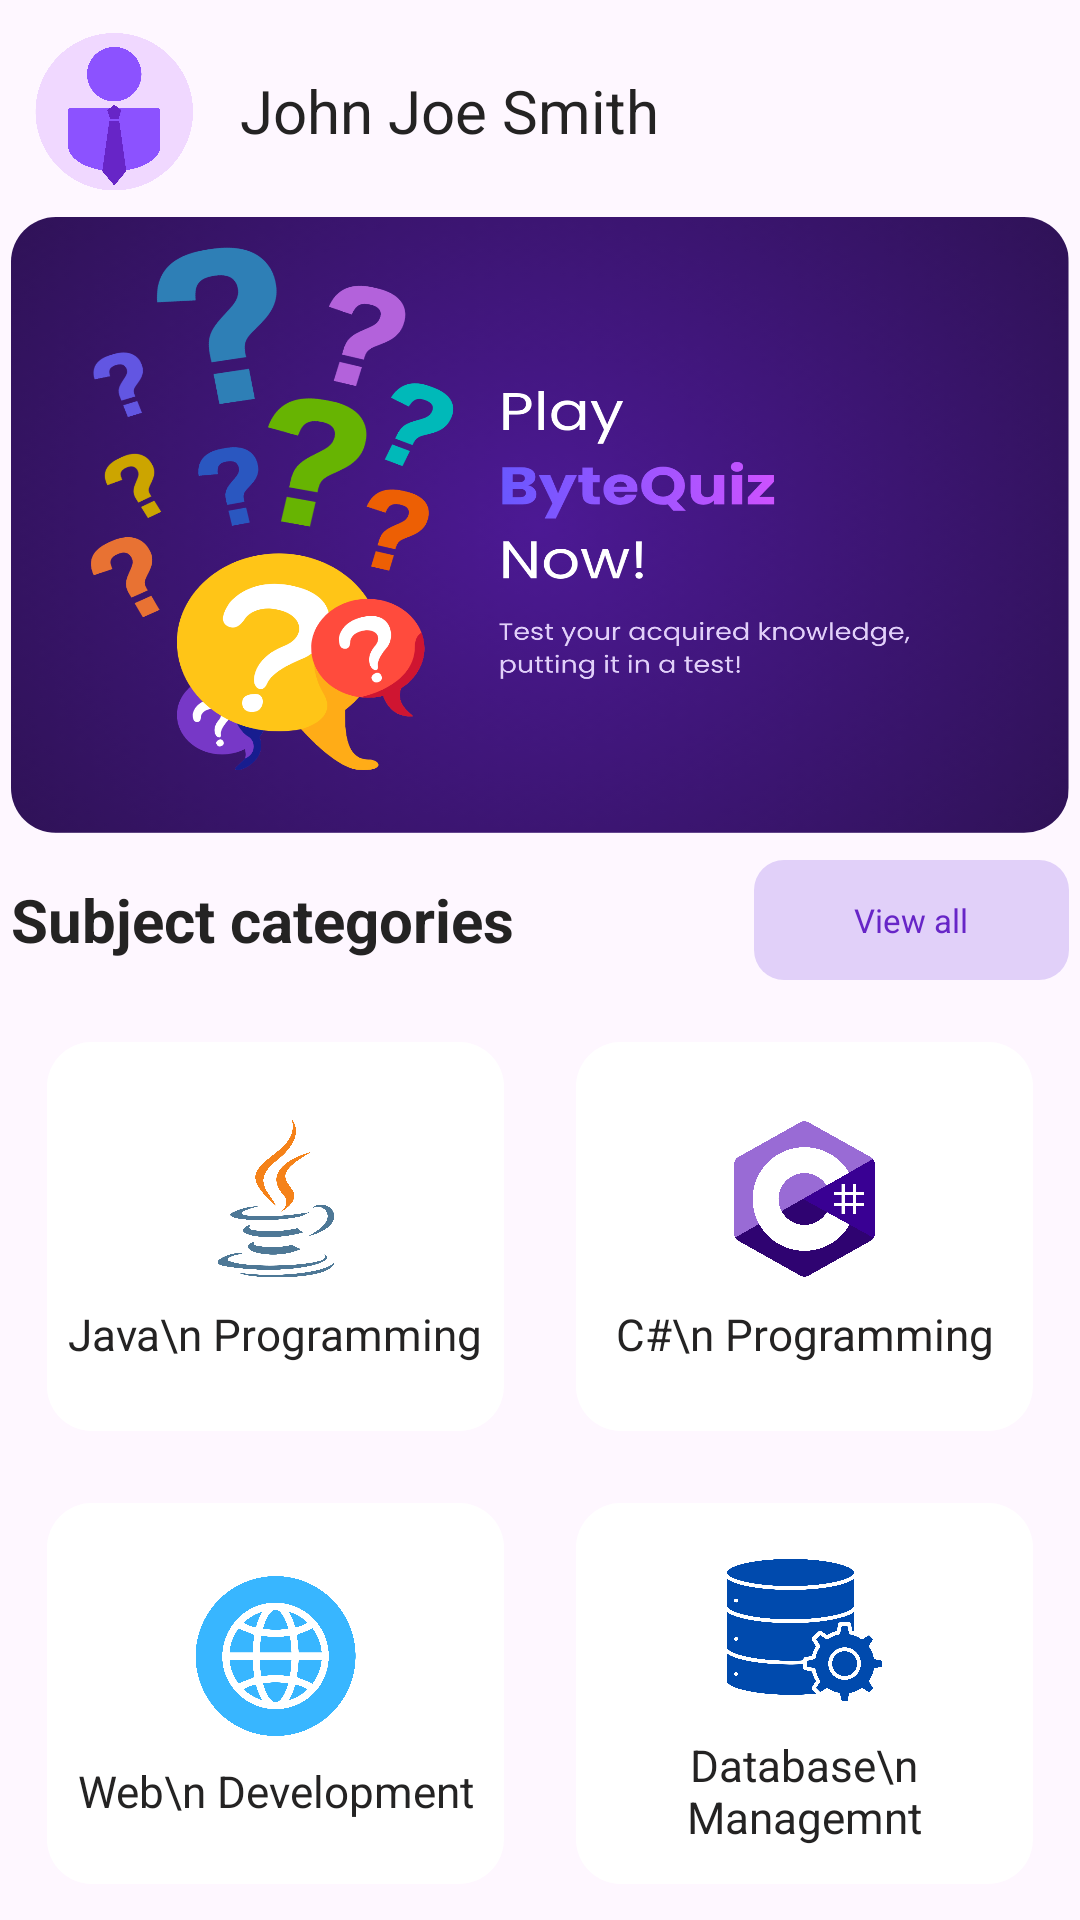

Icon click points for this 1080 × 1920 phone screenshot, format (x=x, y=y):
profile app: (x=114, y=111)
